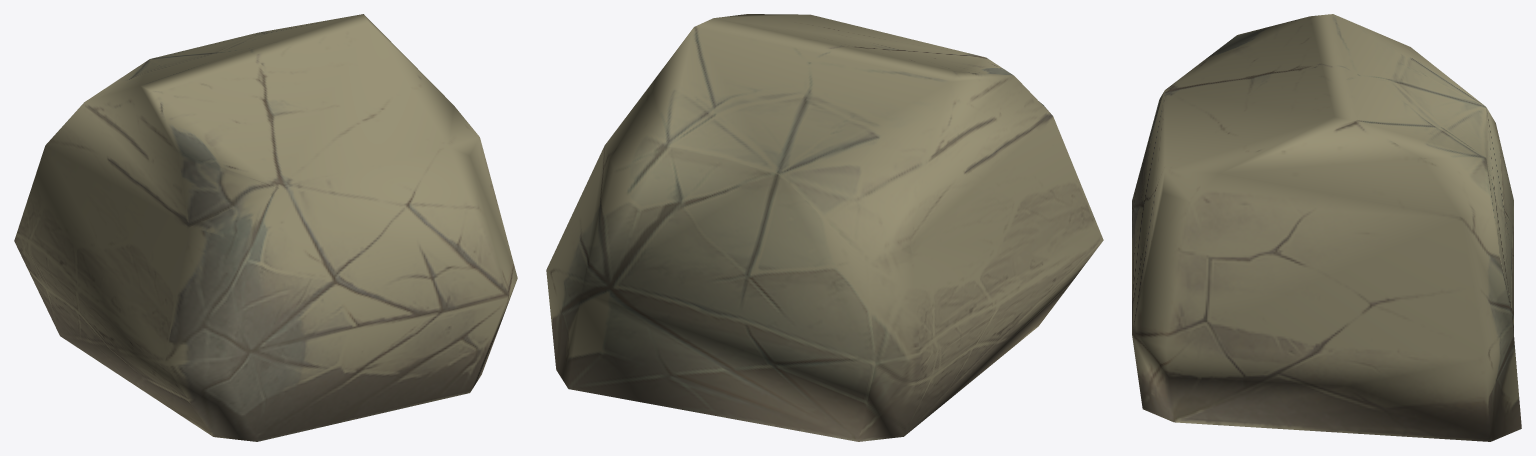
The model's file is Stone_2.fbx.
3 views of the same model, side by side, from view 1: azimuth 30°, elevation 25°; view 2: azimuth 150°, elevation 25°; view 3: azimuth 270°, elevation 25° (orthographic). The views are drawn at different scales.
Parts seen in each view (by area): view 1: Stone_2; view 2: Stone_2; view 3: Stone_2.
Boxes of the visible parts, x1=… form: Stone_2: x1=14, y1=14, x2=517, y2=441; Stone_2: x1=546, y1=14, x2=1103, y2=441; Stone_2: x1=1132, y1=14, x2=1521, y2=441.
Size of the model in its own units: 200 by 152 by 185.
1 material, 1 textured.
